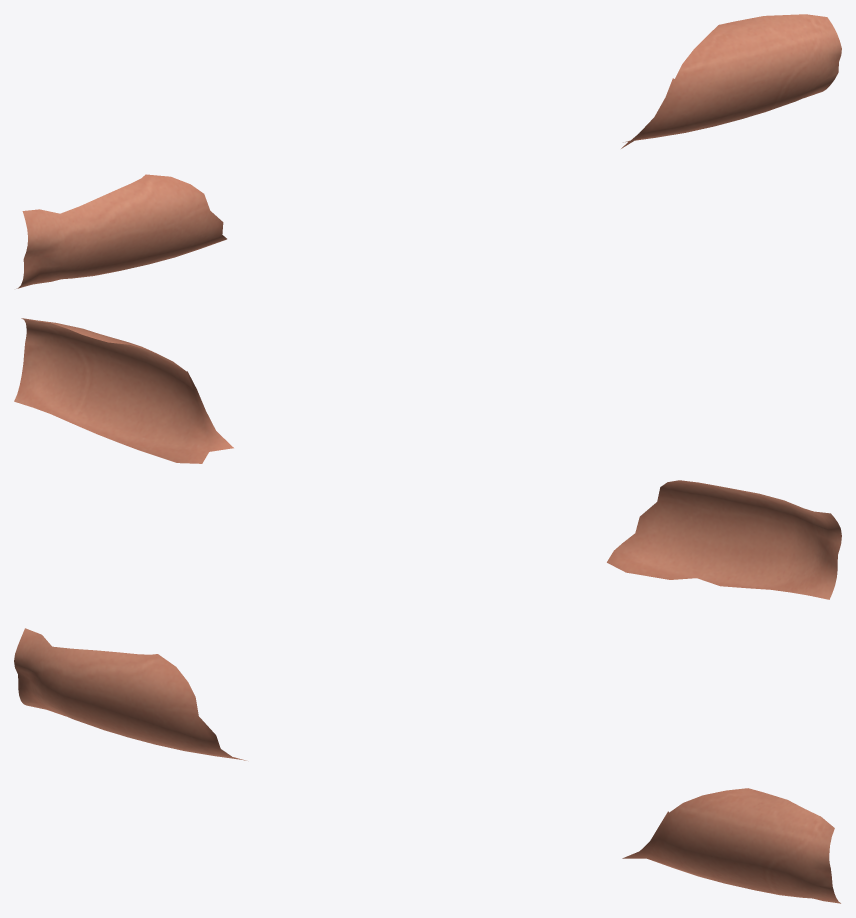
The model's file is biceps.glb.
The picture shows the model from 3 angles, top to bottom: view 1: azimuth 30°, elevation 25°; view 2: azimuth 150°, elevation 25°; view 3: azimuth 330°, elevation 25°; orthographic projection.
Visible parts, largest first — view 1: biceps; view 2: biceps; view 3: biceps.
Part boxes in pixels (left/top/right/bottom): biceps: left=16, top=14, right=841, bottom=288; biceps: left=14, top=318, right=841, bottom=599; biceps: left=14, top=628, right=840, bottom=903.
Size of the model in its own units: 0.0977 by 0.0114 by 0.00623.
1 material, 1 textured.
